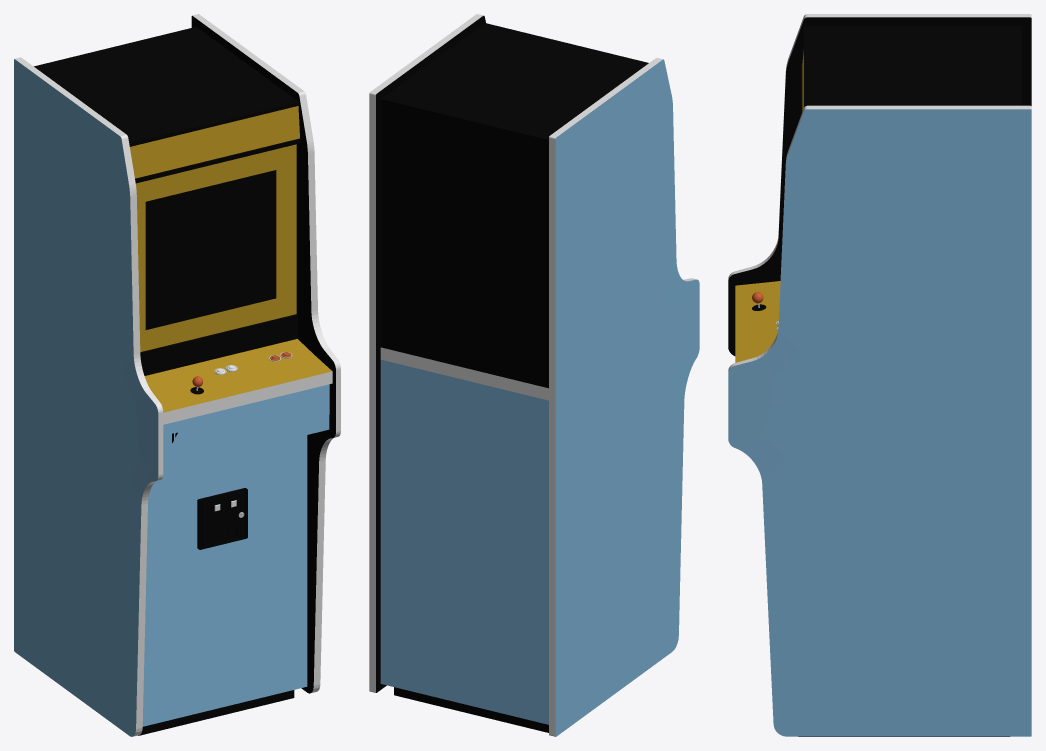
The model's file is Tower_Donkey_Kong.fbx.
3 renders of one model, left to right at view 1: azimuth 30°, elevation 25°; view 2: azimuth 150°, elevation 25°; view 3: azimuth 270°, elevation 25°, orthographic. The views are drawn at different scales.
Parts seen in each view (by area): view 1: Cube, Cube.001, Cube.009, Cube.002; view 2: Cube, Cube.001; view 3: Cube.001, Cube.
Part boxes in pixels (x1,y1,x2,y2): Cube: (34,26,332,735); Cube.001: (14,14,340,736); Cube.009: (201,491,244,546); Cube.002: (197,488,247,549); Cube: (380,23,648,732); Cube.001: (369,14,699,736); Cube.001: (728,14,1031,736); Cube: (735,26,1021,736).
Size of the model in its own units: 234 by 727 by 315.
